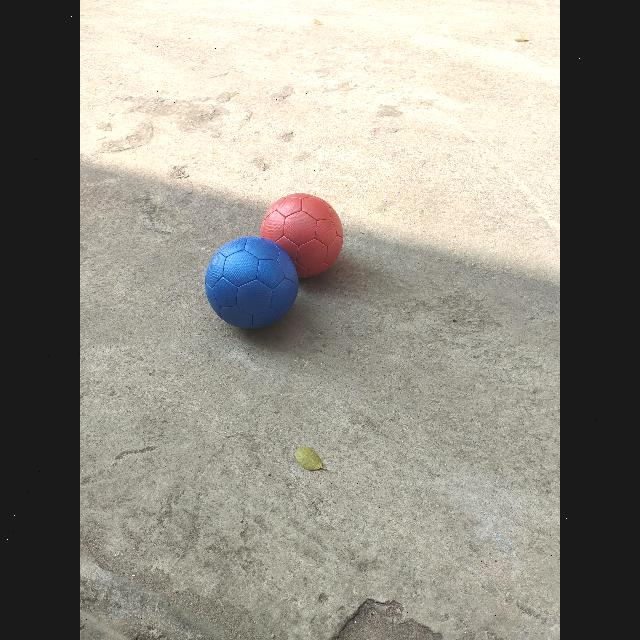B: (206, 236, 300, 332)
R: (262, 194, 344, 278)
